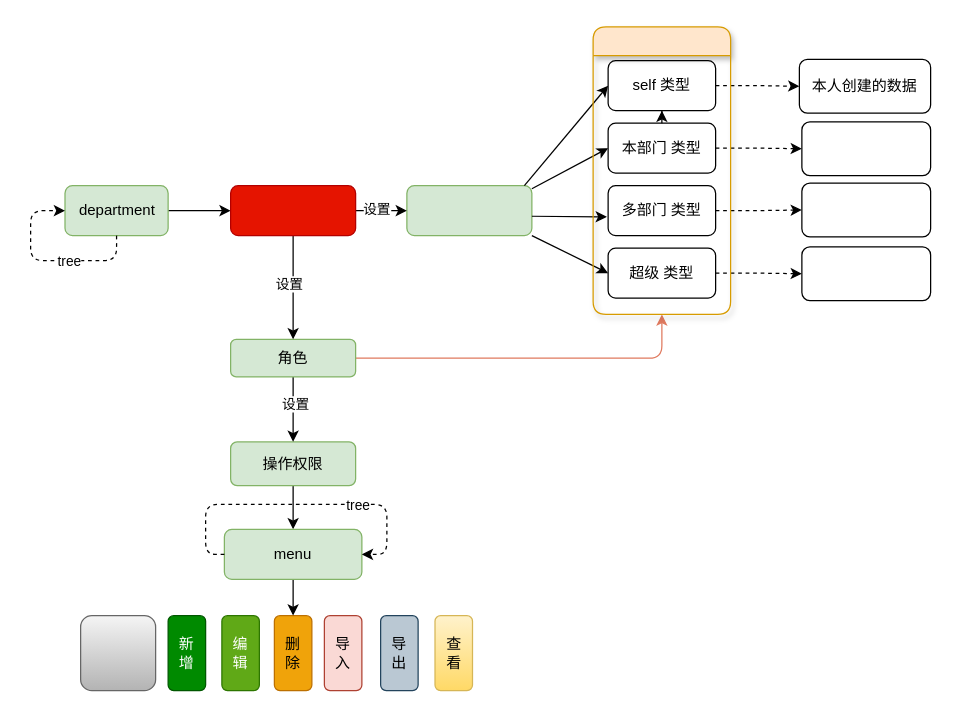
Some shapes in this 953 by 713 pixel diagram are drawn without their labels. The centre of each missing label's shape, as x and y in pixels:
"Employees" belongs at (x=292, y=210).
"任何部门都可以操作" belongs at (x=866, y=273).
"其他........" belongs at (x=117, y=652).
"多部门数据操作" belongs at (x=866, y=209).
"本部数据操作" belongs at (x=866, y=148).
"用户部门类型" belongs at (x=662, y=172).
"部门类型" belongs at (x=469, y=210).
